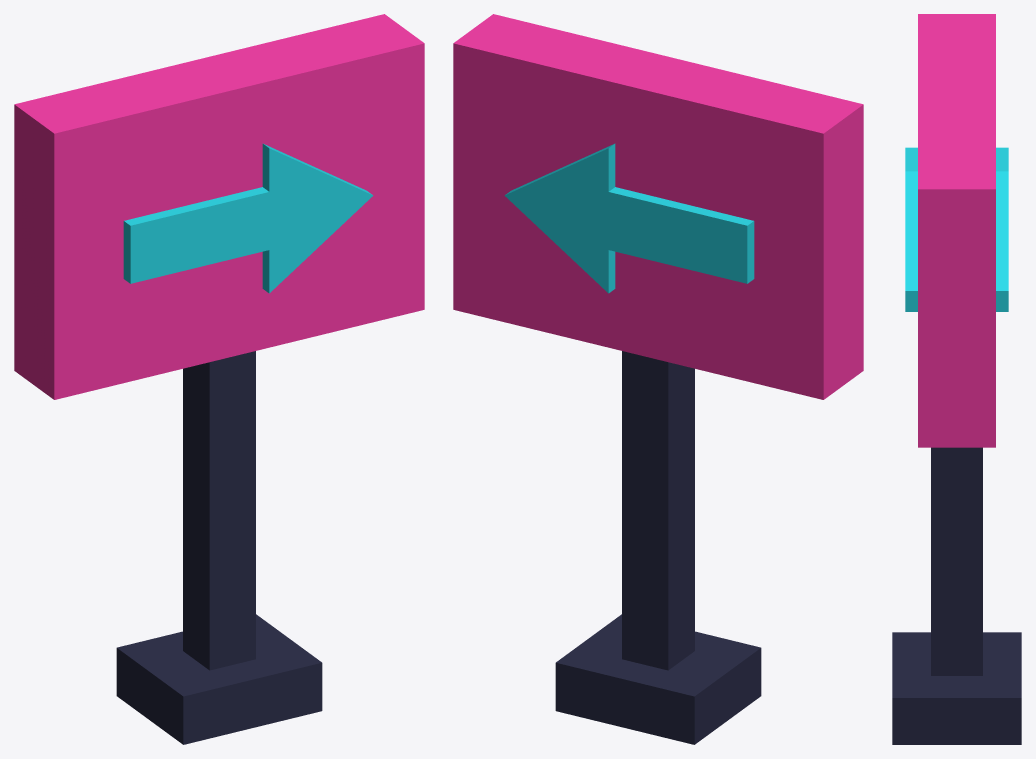
Rendered from env_r8_neon_sign.glb.
3 views of the same model, side by side, from view 1: azimuth 30°, elevation 25°; view 2: azimuth 150°, elevation 25°; view 3: azimuth 270°, elevation 25° (orthographic). The views are drawn at different scales.
Visible parts, largest first — view 1: env_r8_neon_sign; view 2: env_r8_neon_sign; view 3: env_r8_neon_sign.
Boxes of the visible parts, left/top/right/bottom form: env_r8_neon_sign: left=14, top=14, right=424, bottom=744; env_r8_neon_sign: left=453, top=14, right=863, bottom=744; env_r8_neon_sign: left=892, top=14, right=1021, bottom=744.
Size of the model in its own units: 1.6 by 2.6 by 0.5.
Materials: 1 (1 with a texture image).
